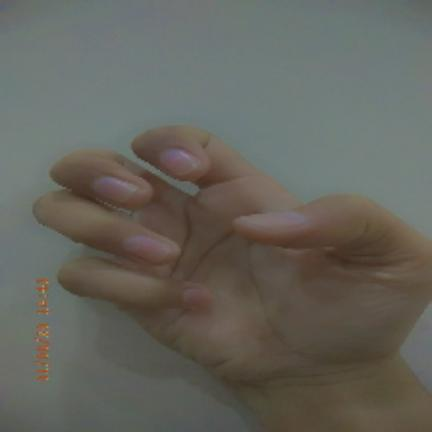Nail: (123, 234, 170, 263), (93, 175, 139, 204), (236, 212, 306, 229), (160, 148, 201, 176), (183, 289, 213, 304)
